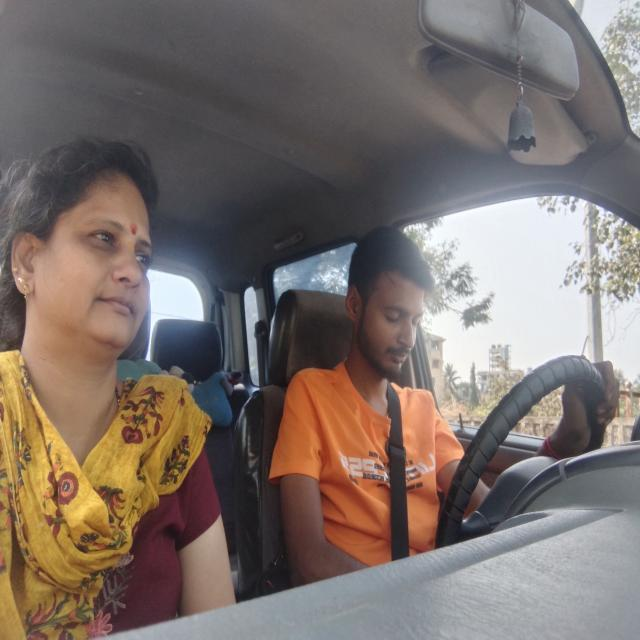drowsy: (345, 189, 442, 407)
person: (4, 90, 167, 410)
